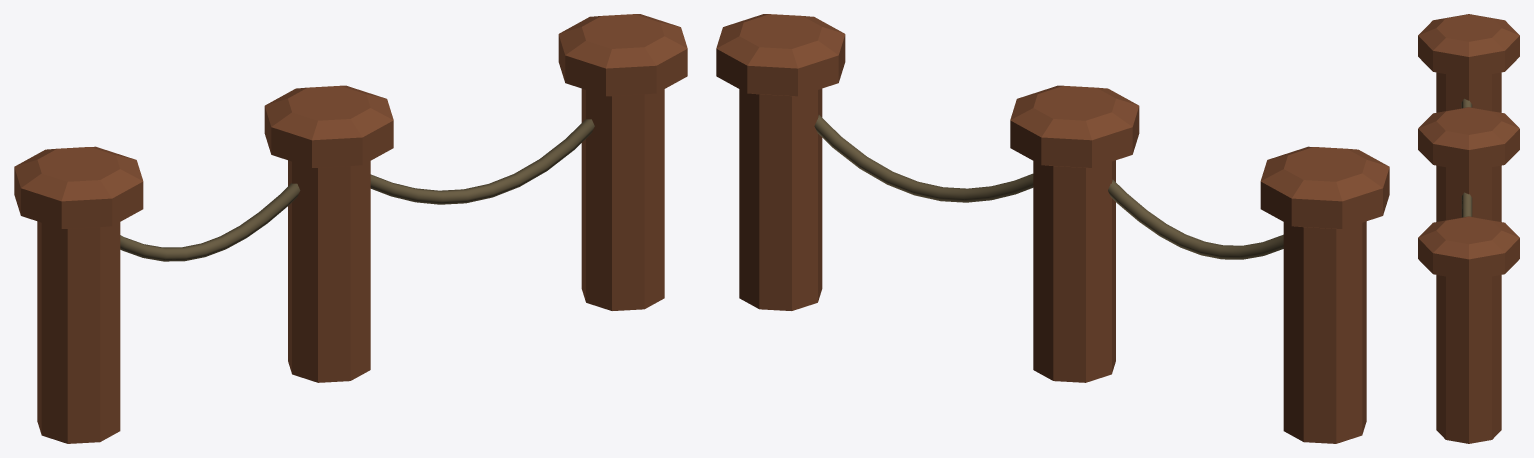
Rendered from fence.dae.
3 renders of one model, left to right at view 1: azimuth 30°, elevation 25°; view 2: azimuth 150°, elevation 25°; view 3: azimuth 270°, elevation 25°, orthographic. The views are drawn at different scales.
Parts seen in each view (by area): view 1: Cylinder.005, Cylinder.007, Cylinder.006, BezierCurve; view 2: Cylinder.005, Cylinder.007, Cylinder.006, BezierCurve; view 3: Cylinder.007, Cylinder.006, Cylinder.005, BezierCurve.
Part boxes in pixels (left/top/right/bottom): Cylinder.005: left=14, top=146, right=143, bottom=443; Cylinder.007: left=558, top=14, right=687, bottom=310; Cylinder.006: left=264, top=85, right=393, bottom=382; BezierCurve: left=120, top=119, right=594, bottom=261; Cylinder.005: left=1260, top=146, right=1389, bottom=443; Cylinder.007: left=716, top=14, right=845, bottom=310; Cylinder.006: left=1010, top=85, right=1139, bottom=382; BezierCurve: left=814, top=115, right=1283, bottom=259; Cylinder.007: left=1418, top=216, right=1519, bottom=443; Cylinder.006: left=1418, top=107, right=1519, bottom=221; Cylinder.005: left=1418, top=14, right=1519, bottom=112; BezierCurve: left=1461, top=98, right=1472, bottom=217.
Bounding box in the file's own units: 2.14 × 0.3747 × 0.8103.
